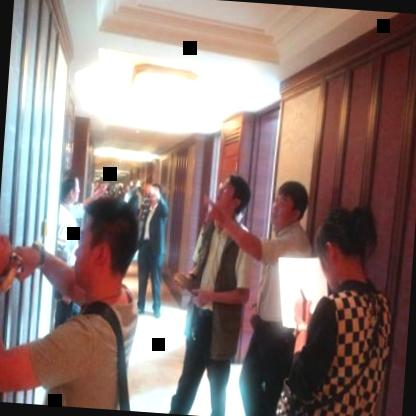head: (70, 191, 141, 307), (316, 199, 378, 291), (213, 172, 252, 226), (274, 178, 310, 230), (60, 169, 85, 211)
